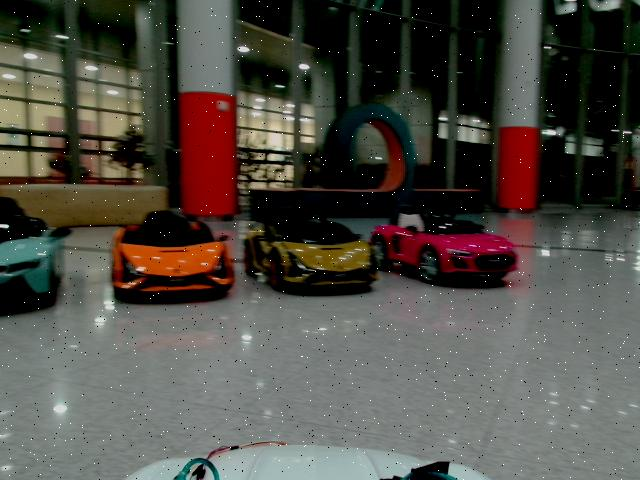car: (367, 204, 519, 284), (243, 210, 377, 290), (111, 209, 231, 298)
